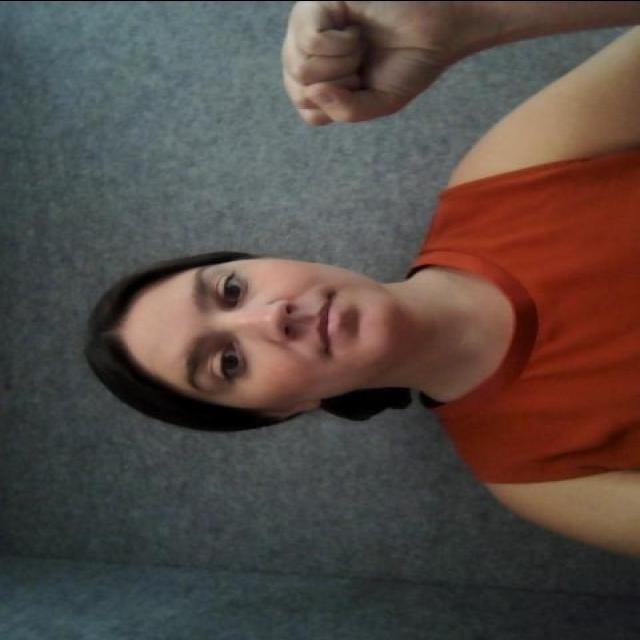Rock: (256, 0, 490, 143)
